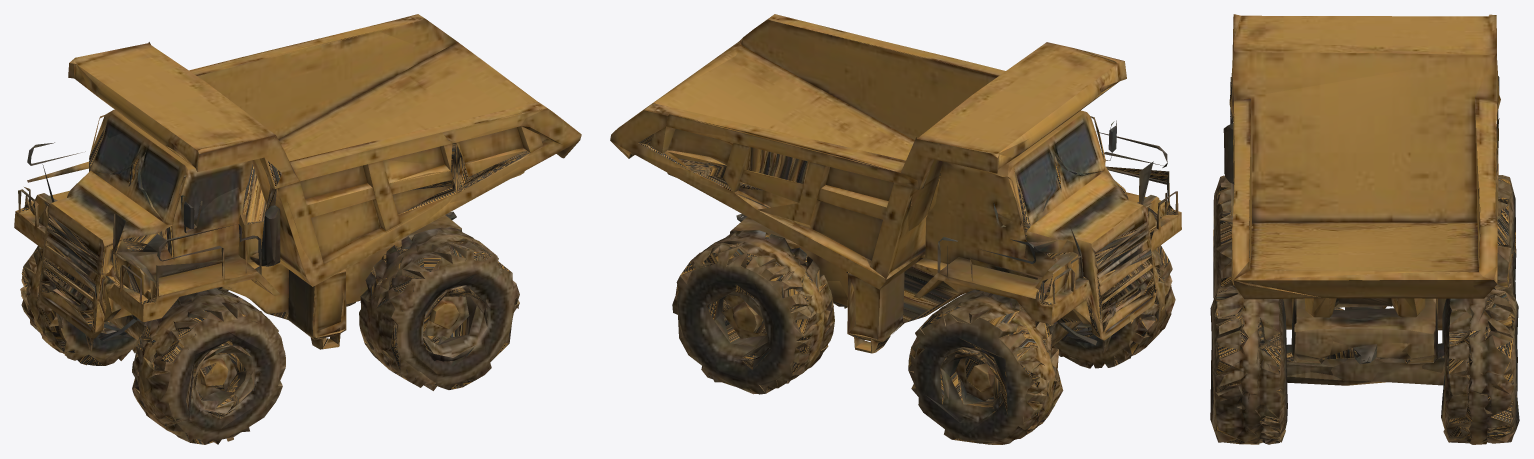
File: mining_haul_truck.glb
3 views of the same model, side by side, from view 1: azimuth 30°, elevation 25°; view 2: azimuth 150°, elevation 25°; view 3: azimuth 270°, elevation 25° (orthographic). The views are drawn at different scales.
Parts seen in each view (by area): view 1: turn, mesh_lod; view 2: turn, mesh_lod; view 3: turn, mesh_lod.
Boxes of the visible parts, x1,y1,x2,y2 form: turn: (14,19,581,444); mesh_lod: (21,14,575,444); turn: (610,14,1181,444); mesh_lod: (621,14,1177,443); turn: (1210,14,1519,444); mesh_lod: (1211,15,1516,444).
Bounding box in the file's own units: 11.89 × 7.4 × 6.89.
1 material, 1 textured.
